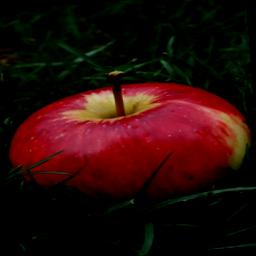Apple Ripe: (3, 39, 256, 214)
